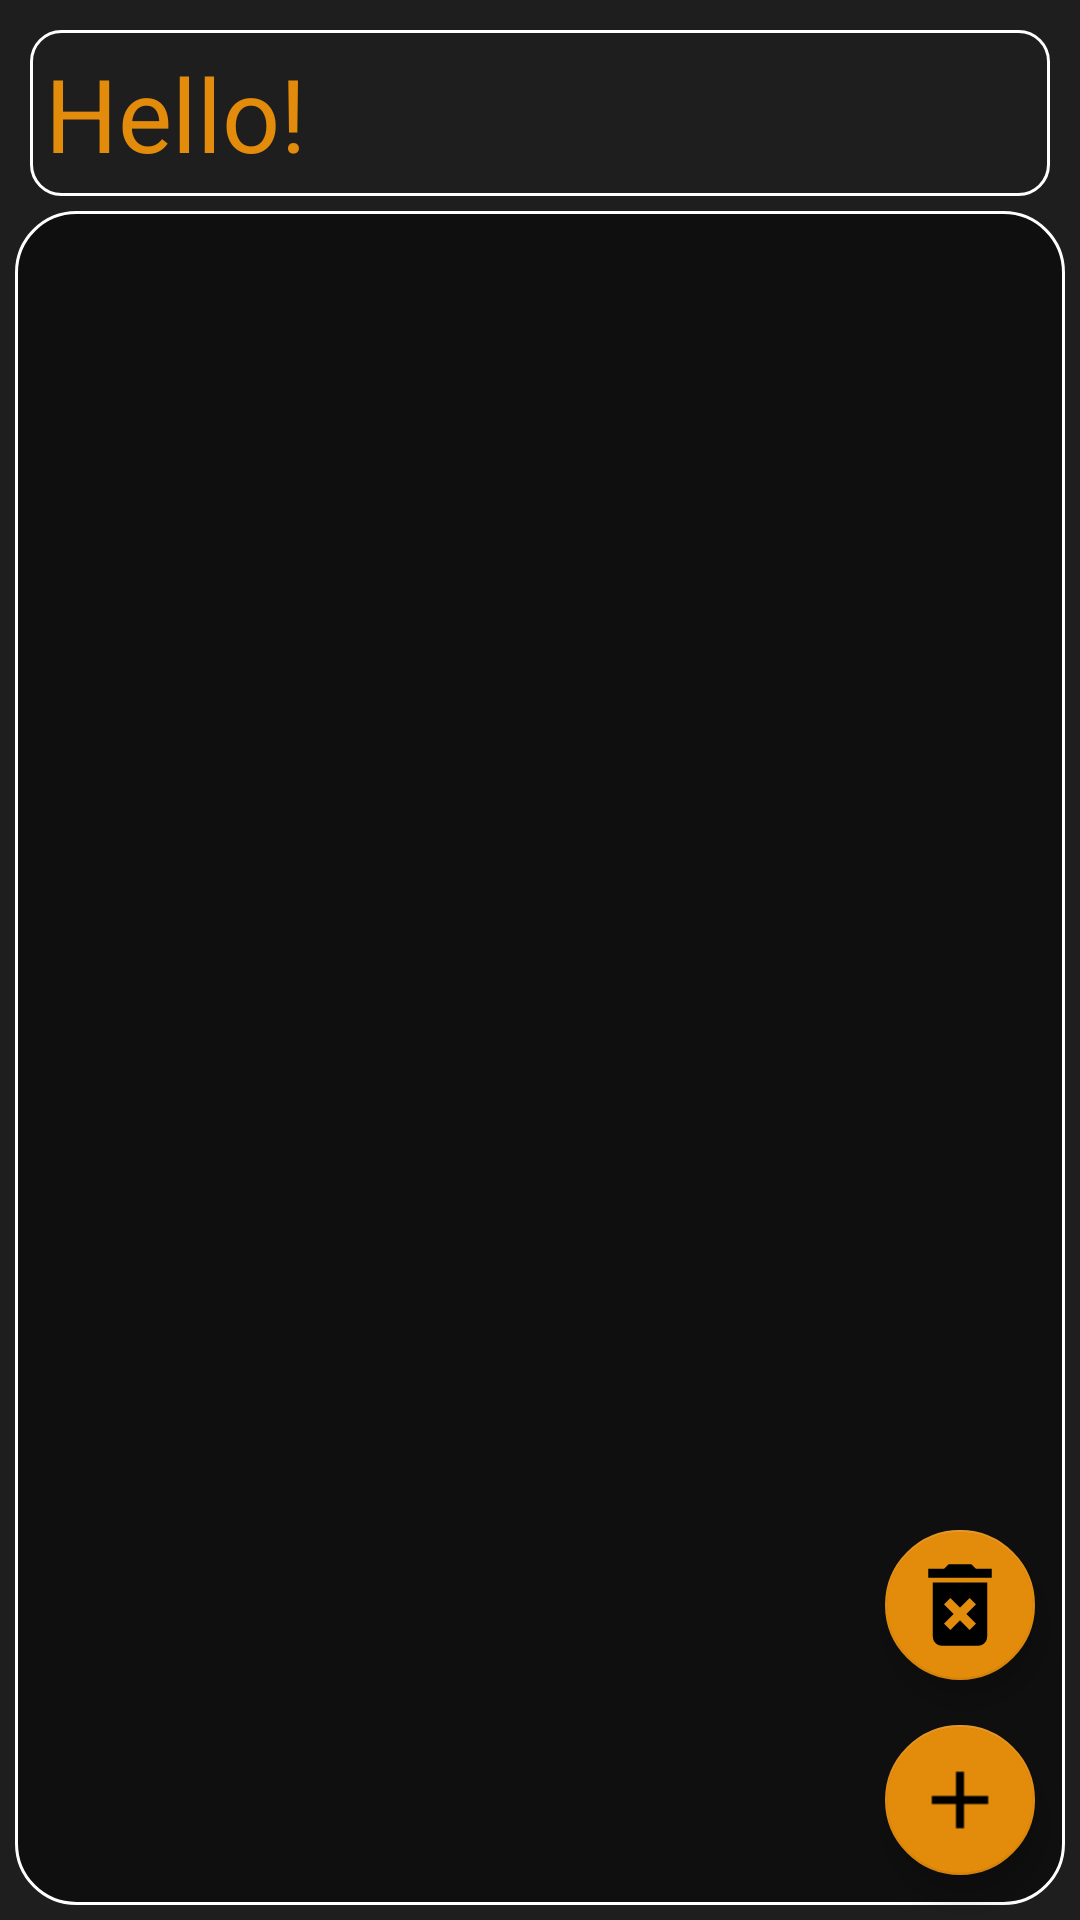

Icon click points for this 1080x1920 phone screenshot, format (x,y):
add: (960,1800)
clear: (960,1605)
